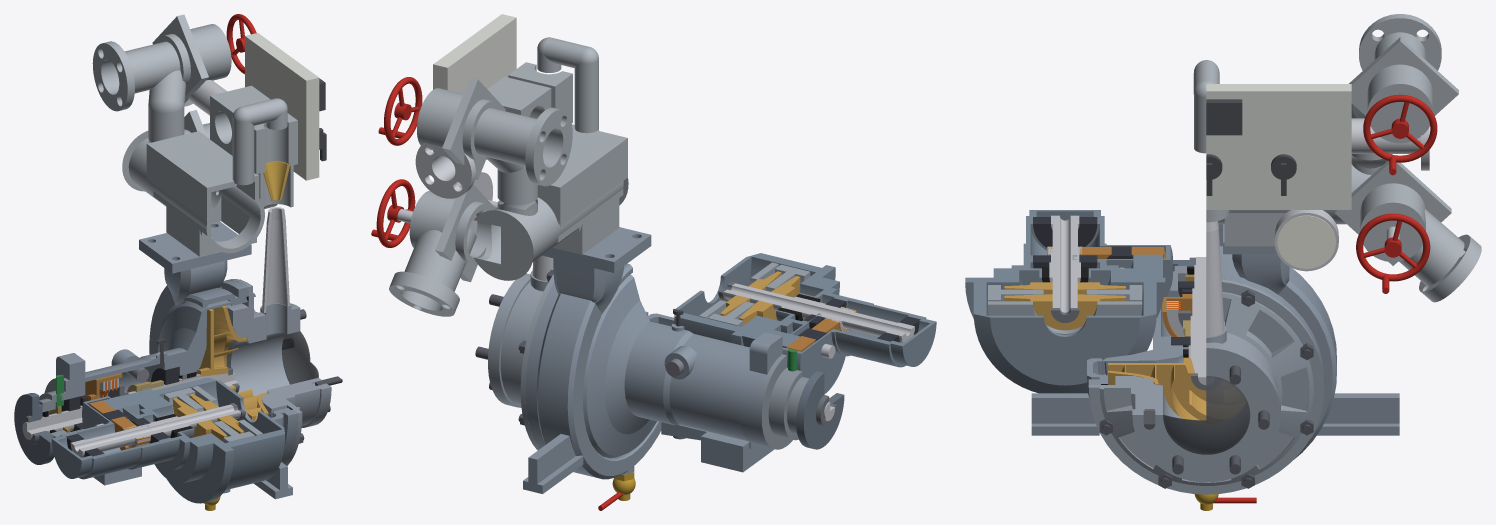
The model's file is NCPK_nasos_razrez.glb.
3 renders of one model, left to right at view 1: azimuth 30°, elevation 25°; view 2: azimuth 150°, elevation 25°; view 3: azimuth 270°, elevation 25°, orthographic. The views are drawn at different scales.
Visible parts, largest first — view 1: 20 Корпус насоса (улитка, напорный патрубок, приливы), П 3 Коллектор нормального давления, П 10 Вентиль напорный подачи воды в цистерну, ВД 14 Корпус ступени (с приливами входа и выхода), 12 Крышка насоса, П 4 Панель управления, ПС 1 Кран эжектора, ВД 5 Корпус опор и шестерни, ВД 4 Вал-шестерня (полый: охлаждение водой), ПС 10 Диффузор, ПС 2 Дозатор, 1 Полумуфта (+20 smaller); view 2: 20 Корпус насоса (улитка, напорный патрубок, приливы), П 3 Коллектор нормального давления, П 10 Вентиль напорный подачи воды в цистерну, П 1 Вентиль напорный нормального давления (правый), 12 Крышка насоса, ПС 1 Кран эжектора, ВД 14 Корпус ступени (с приливами входа и выхода), ВД 5 Корпус опор и шестерни, П 4 Панель управления, 25 Корпус задней опоры, ВД 4 Вал-шестерня (полый: охлаждение водой), ПС 3 Патрубок подвода пенообразователя (+7 smaller); view 3: 12 Крышка насоса, П 4 Панель управления, 20 Корпус насоса (улитка, напорный патрубок, приливы), ВД 14 Корпус ступени (с приливами входа и выхода), П 1 Вентиль напорный нормального давления (правый), П 10 Вентиль напорный подачи воды в цистерну, 13 Сетка, П 3 Коллектор нормального давления, ВД 4 Вал-шестерня (полый: охлаждение водой), П 12 Манометр: шкала, П 10 Вентиль в цистерну: маховик, П 1 Вентиль правый: маховик (+19 smaller).
Boxes of the visible parts, left/top/right/bottom form: 20 Корпус насоса (улитка, напорный патрубок, приливы): left=56, top=221, right=298, bottom=499; П 3 Коллектор нормального давления: left=122, top=130, right=264, bottom=256; П 10 Вентиль напорный подачи воды в цистерну: left=92, top=14, right=231, bottom=142; ВД 14 Корпус ступени (с приливами входа и выхода): left=139, top=377, right=284, bottom=503; 12 Крышка насоса: left=225, top=279, right=331, bottom=465; П 4 Панель управления: left=245, top=33, right=319, bottom=180; ПС 1 Кран эжектора: left=232, top=98, right=297, bottom=185; ВД 5 Корпус опор и шестерни: left=60, top=396, right=190, bottom=479; ВД 4 Вал-шестерня (полый: охлаждение водой): left=70, top=404, right=240, bottom=457; ПС 10 Диффузор: left=262, top=207, right=289, bottom=313; ПС 2 Дозатор: left=210, top=85, right=270, bottom=155; 1 Полумуфта: left=14, top=393, right=54, bottom=464; 20 Корпус насоса (улитка, напорный патрубок, приливы): left=523, top=227, right=782, bottom=493; П 3 Коллектор нормального давления: left=474, top=124, right=628, bottom=280; П 10 Вентиль напорный подачи воды в цистерну: left=417, top=77, right=572, bottom=204; П 1 Вентиль напорный нормального давления (правый): left=389, top=184, right=495, bottom=316; 12 Крышка насоса: left=488, top=271, right=554, bottom=450; ПС 1 Кран эжектора: left=508, top=37, right=598, bottom=133; ВД 14 Корпус ступени (с приливами входа и выхода): left=674, top=253, right=839, bottom=345; ВД 5 Корпус опор и шестерни: left=780, top=288, right=926, bottom=394; П 4 Панель управления: left=433, top=14, right=516, bottom=151; 25 Корпус задней опоры: left=757, top=354, right=827, bottom=449; ВД 4 Вал-шестерня (полый: охлаждение водой): left=723, top=283, right=914, bottom=342; ПС 3 Патрубок подвода пенообразователя: left=415, top=142, right=475, bottom=198; 12 Крышка насоса: left=1088, top=279, right=1324, bottom=494; П 4 Панель управления: left=1206, top=84, right=1351, bottom=209; 20 Корпус насоса (улитка, напорный патрубок, приливы): left=1031, top=224, right=1399, bottom=459; ВД 14 Корпус ступени (с приливами входа и выхода): left=965, top=268, right=1165, bottom=393; П 1 Вентиль напорный нормального давления (правый): left=1334, top=161, right=1481, bottom=302; П 10 Вентиль напорный подачи воды в цистерну: left=1349, top=14, right=1458, bottom=160; 13 Сетка: left=1163, top=375, right=1250, bottom=454; П 3 Коллектор нормального давления: left=1218, top=154, right=1392, bottom=246; ВД 4 Вал-шестерня (полый: охлаждение водой): left=1048, top=215, right=1081, bottom=312; П 12 Манометр: шкала: left=1277, top=215, right=1335, bottom=268; П 10 Вентиль в цистерну: маховик: left=1363, top=94, right=1437, bottom=175; П 1 Вентиль правый: маховик: left=1356, top=213, right=1430, bottom=293.
Bounding box in the file's own units: 0.6734 × 0.771 × 0.7231.
